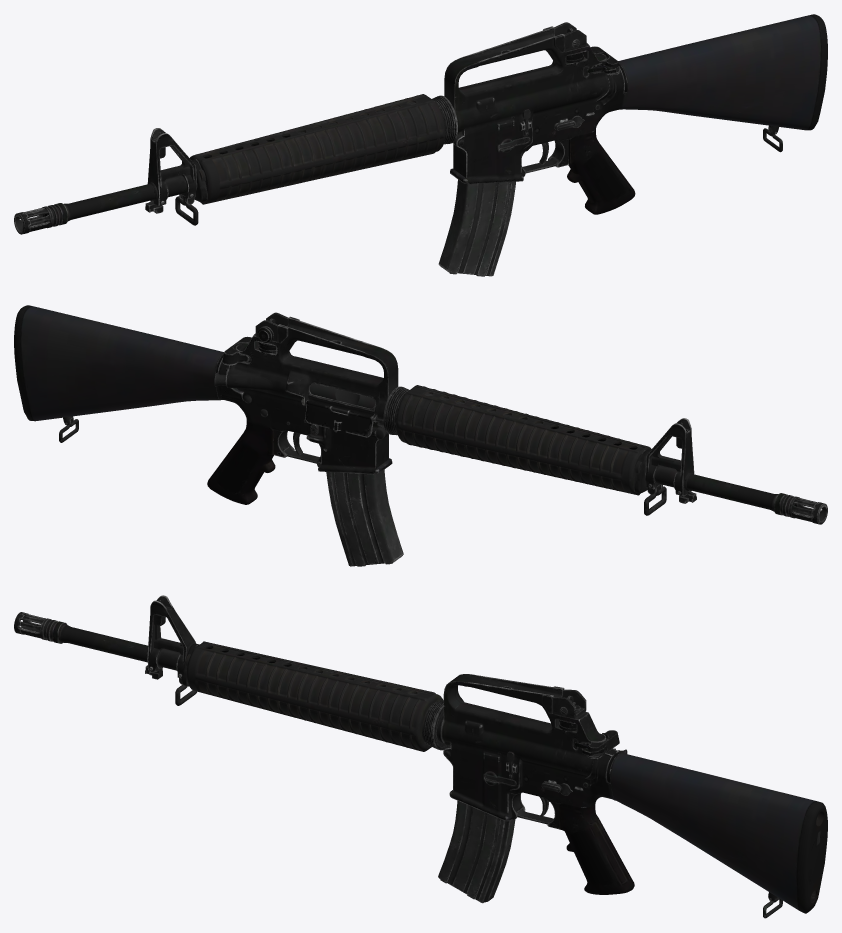
File: weapon_m16.glb
The picture shows the model from 3 angles, top to bottom: view 1: azimuth 30°, elevation 25°; view 2: azimuth 150°, elevation 25°; view 3: azimuth 330°, elevation 25°; orthographic projection.
Parts seen in each view (by area): view 1: main_frame_m16, stock_m16, rail_m16, magazine_m16, grip_m16, barrel_m16, front_sight_m16, rear_sight_m16; view 2: main_frame_m16, stock_m16, rail_m16, magazine_m16, grip_m16, barrel_m16, front_sight_m16, rear_sight_m16; view 3: stock_m16, main_frame_m16, rail_m16, magazine_m16, grip_m16, barrel_m16, front_sight_m16, rear_sight_m16, reloader_m16.
Boxes of the visible parts, x1,y1,x2,y2 form: main_frame_m16: (444, 26, 627, 184); stock_m16: (618, 14, 827, 152); rail_m16: (190, 94, 457, 204); magazine_m16: (438, 179, 515, 276); grip_m16: (567, 129, 635, 214); barrel_m16: (14, 175, 186, 234); front_sight_m16: (145, 128, 198, 225); rear_sight_m16: (554, 22, 586, 51); main_frame_m16: (214, 316, 398, 474); stock_m16: (14, 305, 224, 442); rail_m16: (383, 385, 651, 495); magazine_m16: (326, 469, 403, 566); grip_m16: (207, 420, 275, 504); barrel_m16: (655, 465, 827, 524); front_sight_m16: (644, 418, 696, 515); rear_sight_m16: (255, 312, 287, 342); stock_m16: (610, 753, 827, 918); main_frame_m16: (441, 674, 627, 829); rail_m16: (182, 641, 448, 751); magazine_m16: (438, 800, 515, 903); grip_m16: (559, 803, 634, 894); barrel_m16: (14, 612, 179, 670); front_sight_m16: (145, 595, 196, 705); rear_sight_m16: (552, 689, 586, 718); reloader_m16: (575, 730, 619, 758).
Size of the model in its own units: 114 by 30.73 by 7.93.
1 material, 1 textured.
